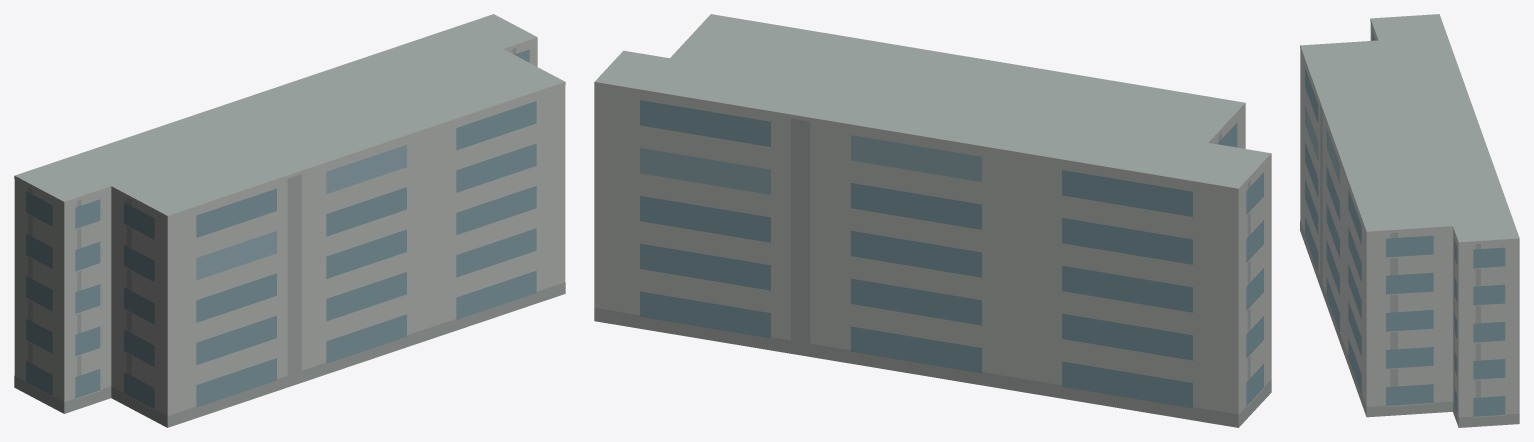
The model's file is residential-5b70503d-2219-4cdc-bc60-fd69600f7ef0.glb.
3 renders of one model, left to right at view 1: azimuth 30°, elevation 25°; view 2: azimuth 150°, elevation 25°; view 3: azimuth 270°, elevation 25°, orthographic. The views are drawn at different scales.
Parts seen in each view (by area): view 1: residential-5b70503d-2219-4cdc-bc60-fd69600f7ef0.tmp; view 2: residential-5b70503d-2219-4cdc-bc60-fd69600f7ef0.tmp; view 3: residential-5b70503d-2219-4cdc-bc60-fd69600f7ef0.tmp.
Boxes of the visible parts, x1,y1,x2,y2 form: residential-5b70503d-2219-4cdc-bc60-fd69600f7ef0.tmp: (14,14,565,427); residential-5b70503d-2219-4cdc-bc60-fd69600f7ef0.tmp: (594,14,1271,427); residential-5b70503d-2219-4cdc-bc60-fd69600f7ef0.tmp: (1300,14,1519,427).
Size of the model in its own units: 40.22 by 15.25 by 16.35.
